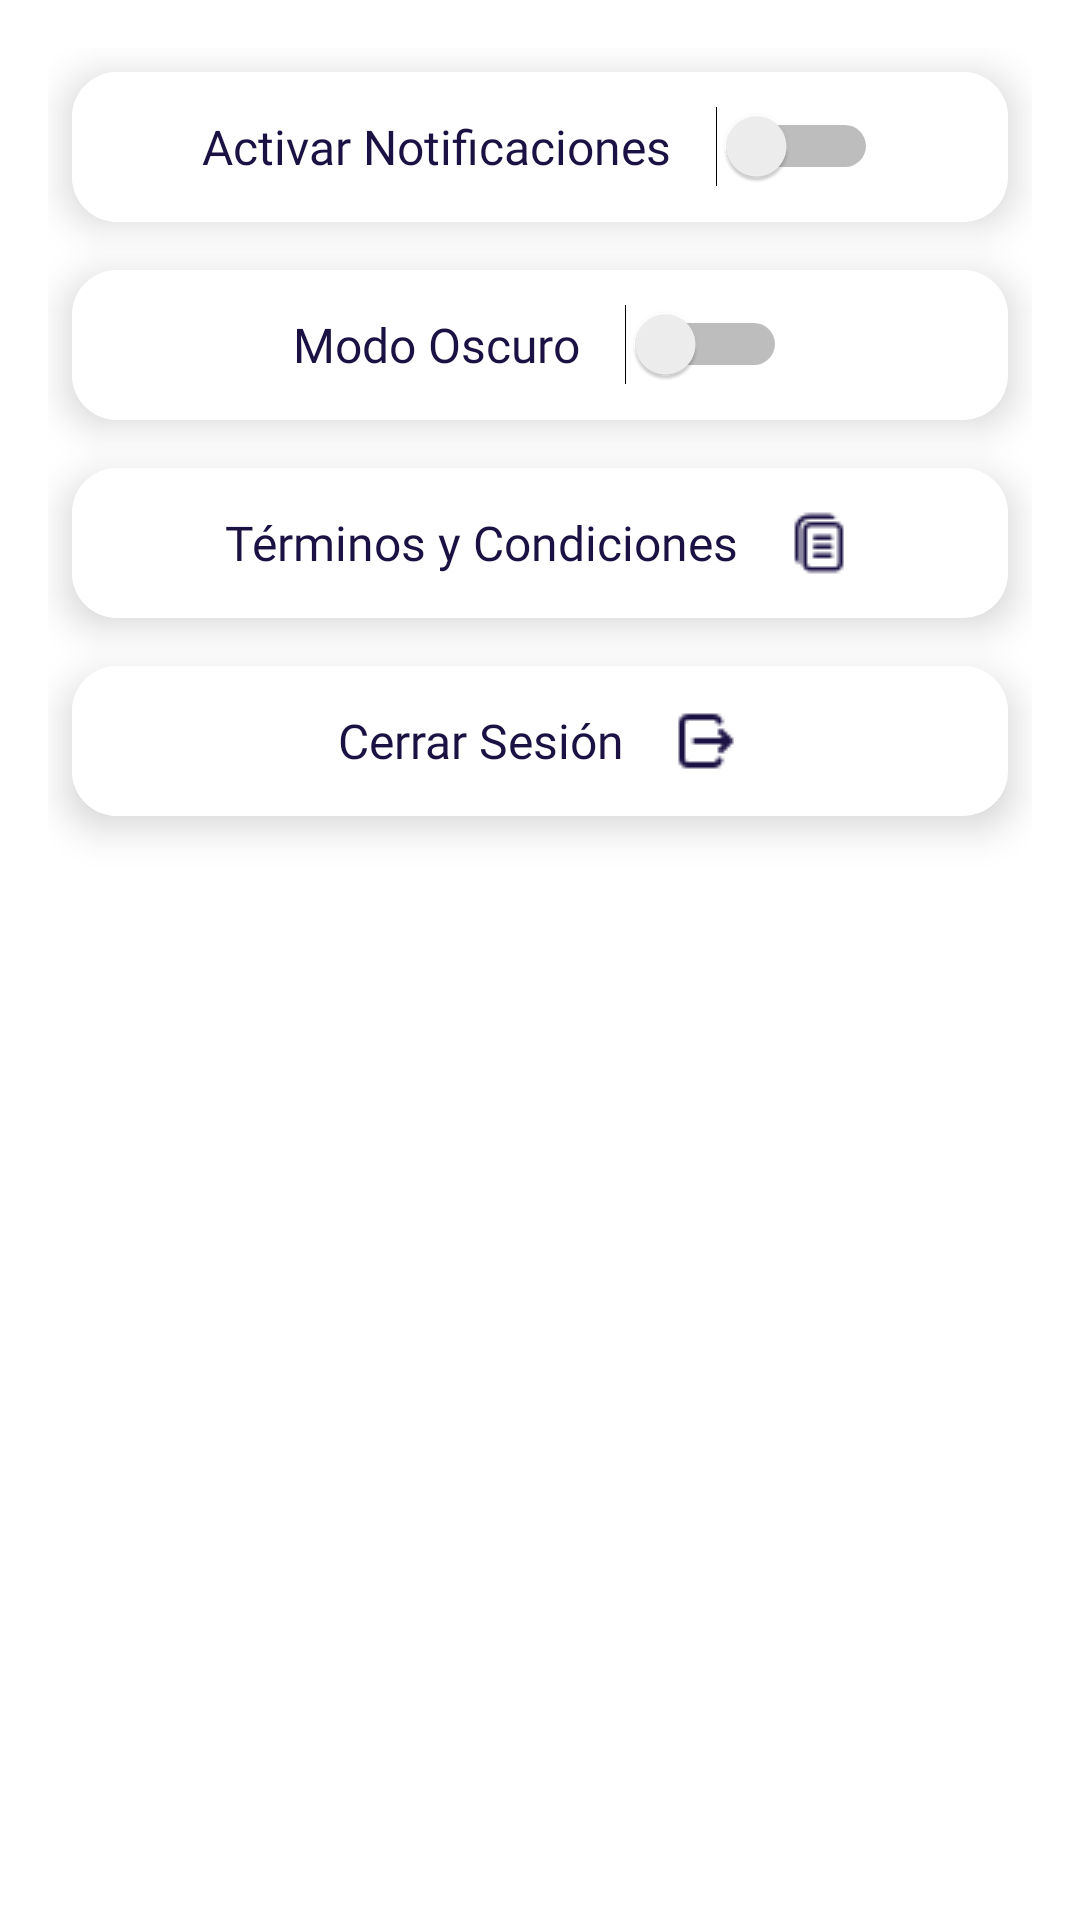

Screen size 1080px x 1920px. Icon name, then its box in pixels as [x1,y1,x2,y2]:
terms and conditions: [794,512,844,574]
